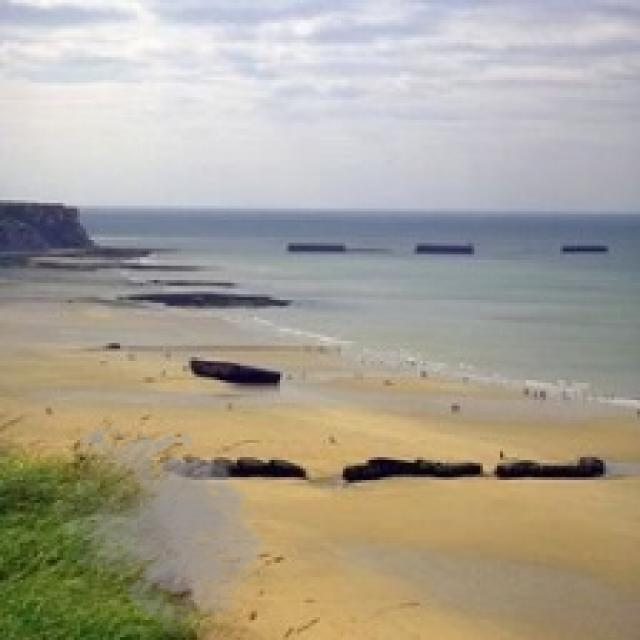Smoke: (48, 420, 274, 637)
